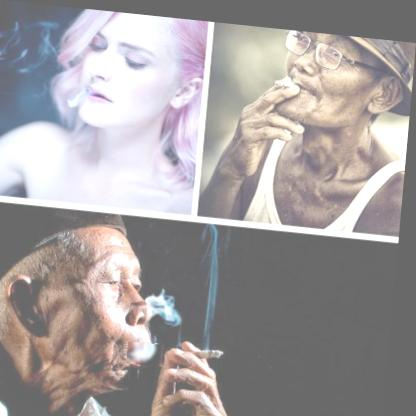smoke: (152, 285, 187, 323), (133, 338, 171, 363)
